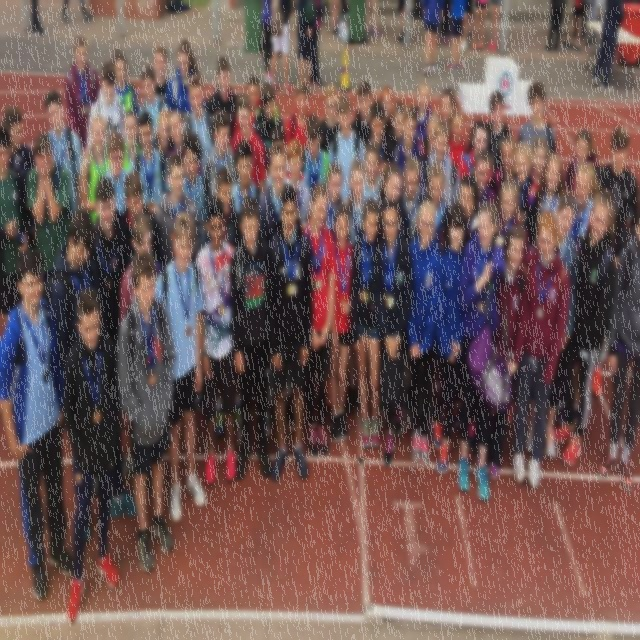pessoa: (112, 46, 394, 638), (42, 206, 140, 546), (0, 241, 77, 610), (60, 285, 122, 629), (115, 248, 177, 572), (550, 190, 617, 467), (154, 208, 206, 523), (513, 208, 571, 490), (455, 197, 507, 501), (522, 188, 578, 462), (268, 183, 314, 484), (89, 175, 131, 494), (229, 194, 273, 482), (596, 211, 640, 494), (554, 158, 600, 428), (196, 196, 237, 487), (428, 196, 468, 478), (371, 197, 411, 468), (407, 198, 443, 468), (348, 196, 386, 451), (301, 179, 335, 462), (495, 222, 529, 480), (26, 130, 74, 304), (594, 126, 638, 270), (344, 157, 368, 415), (328, 201, 353, 447), (42, 88, 84, 226), (155, 150, 204, 264), (2, 103, 39, 250), (64, 35, 104, 162), (120, 168, 166, 274), (327, 92, 367, 208), (128, 109, 170, 218), (523, 152, 566, 250), (229, 92, 267, 198), (262, 139, 299, 247), (78, 112, 112, 229), (256, 140, 292, 248), (89, 58, 128, 154), (164, 36, 208, 121), (181, 72, 218, 172), (203, 108, 240, 206), (422, 118, 460, 212), (494, 176, 530, 274), (204, 55, 240, 148), (516, 78, 558, 154), (512, 140, 540, 252), (208, 164, 244, 248), (396, 152, 428, 246), (562, 127, 600, 206), (592, 0, 625, 90), (167, 108, 204, 186), (252, 80, 284, 170), (229, 140, 264, 220), (299, 112, 331, 198), (484, 88, 514, 177), (283, 138, 312, 228), (137, 64, 169, 144), (180, 127, 208, 218), (102, 127, 130, 216), (269, 0, 295, 95), (392, 105, 424, 182), (458, 120, 493, 189), (363, 101, 394, 178), (284, 80, 314, 152), (426, 163, 451, 247), (376, 160, 404, 230), (419, 0, 444, 77), (491, 132, 520, 198), (296, 0, 316, 93), (322, 160, 344, 243), (317, 82, 342, 154), (233, 72, 262, 134), (350, 78, 374, 150), (472, 148, 498, 214), (447, 105, 473, 168), (384, 100, 408, 166), (457, 176, 480, 242), (360, 140, 382, 204), (310, 0, 326, 87), (121, 108, 142, 172), (447, 0, 465, 73), (562, 0, 586, 54), (152, 44, 170, 113), (545, 0, 568, 53), (529, 135, 549, 195), (418, 108, 440, 162), (151, 106, 173, 159), (261, 0, 274, 86), (414, 80, 434, 132), (471, 0, 490, 53), (327, 0, 349, 44), (62, 0, 94, 25), (28, 0, 48, 39), (440, 86, 458, 125), (380, 82, 392, 140), (488, 0, 500, 54), (396, 0, 408, 47), (366, 0, 380, 37), (440, 0, 450, 49), (410, 0, 426, 20), (166, 0, 190, 13), (580, 0, 588, 39), (573, 18, 578, 40)
